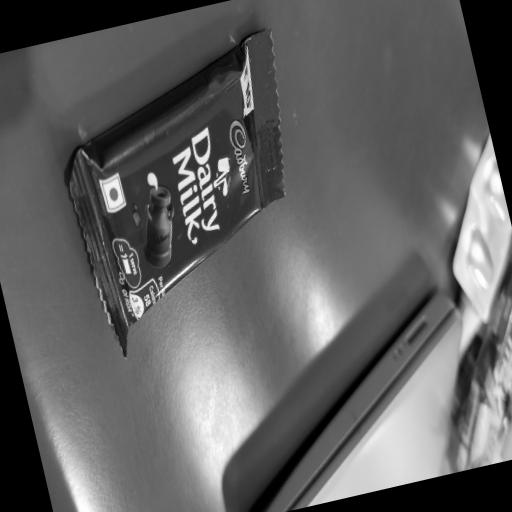chocolate: (63, 56, 314, 322)
dairy-Milk: (168, 134, 232, 244)
